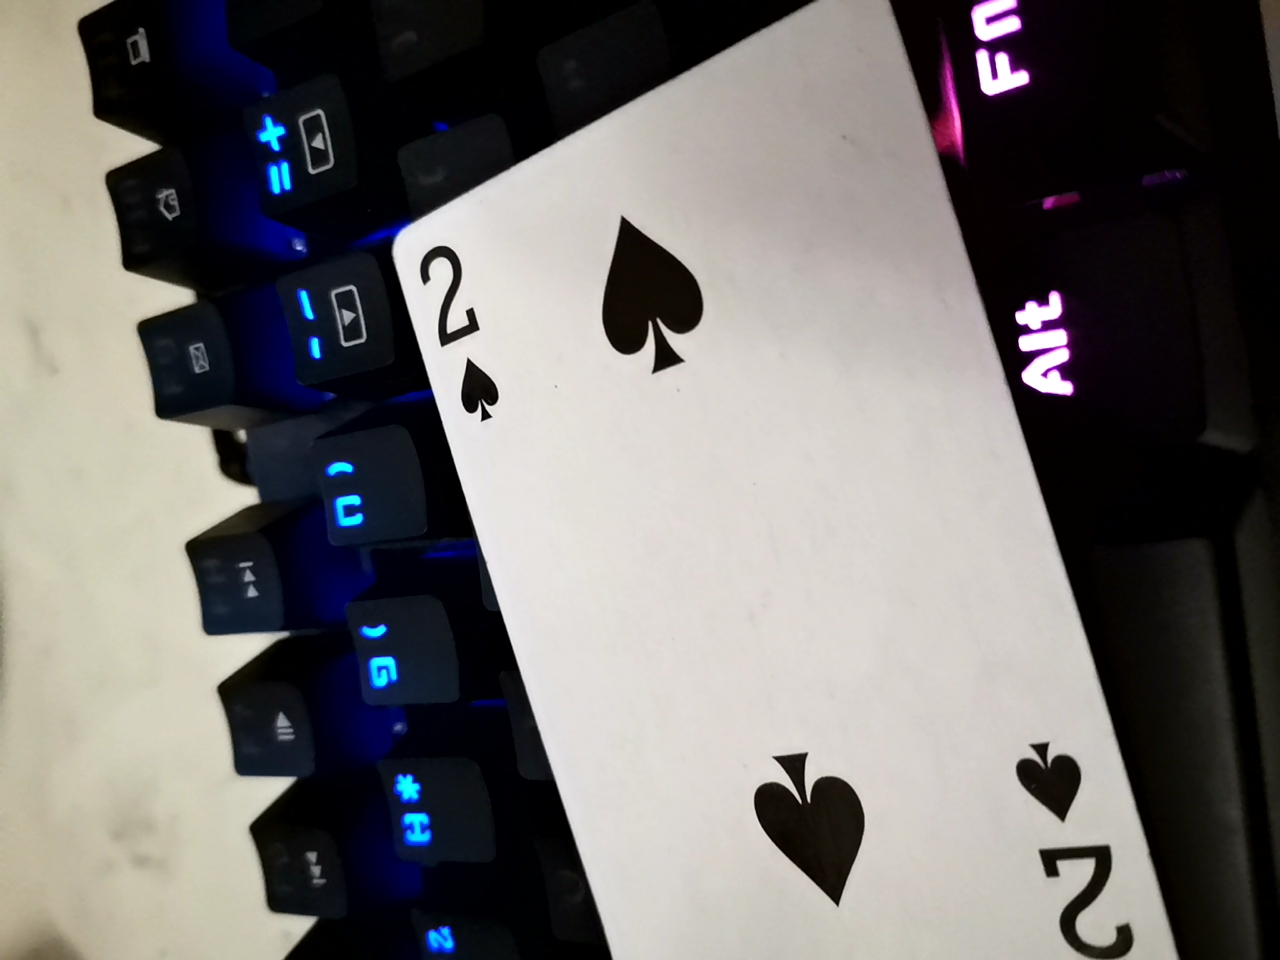ht 2: (401, 11, 1162, 954)
